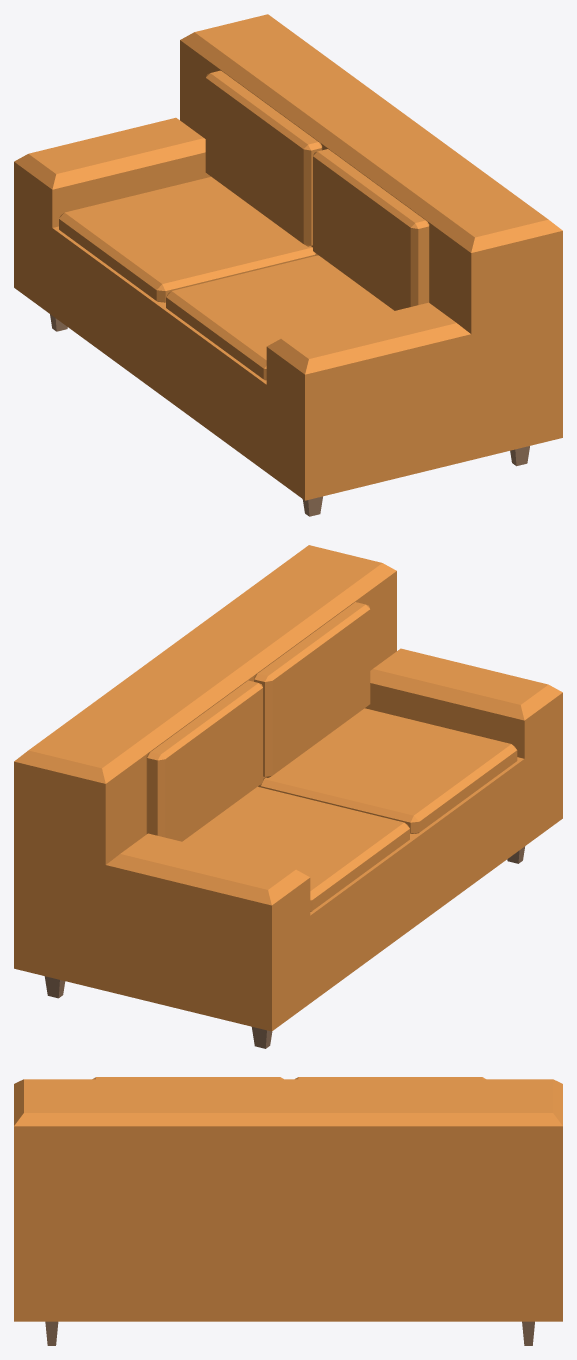
File: Sala_Sofa_10.fbx
The picture shows the model from 3 angles, top to bottom: view 1: azimuth 30°, elevation 25°; view 2: azimuth 150°, elevation 25°; view 3: azimuth 270°, elevation 25°; orthographic projection. The views are drawn at different scales.
Visible parts, largest first — view 1: sofa; view 2: sofa; view 3: sofa.
Boxes of the visible parts, bbox=[...] form: sofa: bbox=[14, 14, 562, 516]; sofa: bbox=[14, 545, 562, 1048]; sofa: bbox=[14, 1077, 562, 1345].
Size of the model in its own units: 54.52 by 50.74 by 107.
2 materials, 2 textured.
